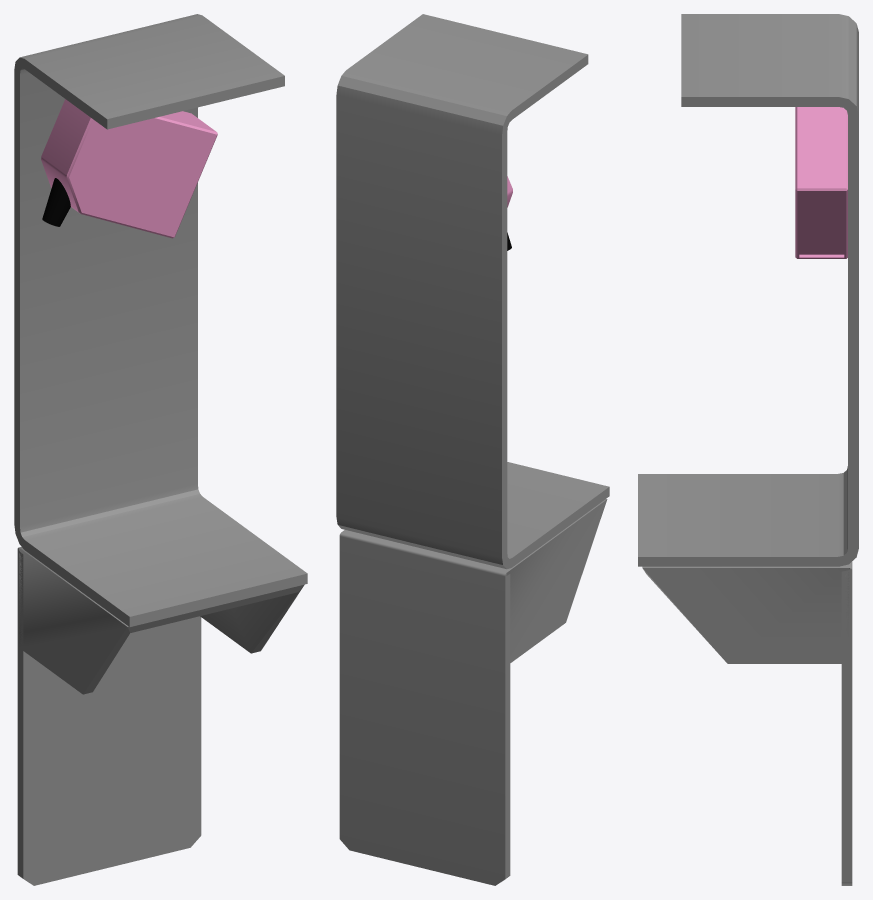
File: Laser2.FBX
3 views of the same model, side by side, from view 1: azimuth 30°, elevation 25°; view 2: azimuth 150°, elevation 25°; view 3: azimuth 270°, elevation 25° (orthographic). The views are drawn at different scales.
Parts seen in each view (by area): view 1: LaserA_2, LaserA; view 2: LaserA_2, LaserA; view 3: LaserA_2, LaserA.
Boxes of the visible parts, bbox=[...] form: LaserA_2: bbox=[14, 14, 307, 626]; LaserA: bbox=[17, 547, 304, 885]; LaserA_2: bbox=[336, 14, 609, 569]; LaserA: bbox=[339, 499, 607, 885]; LaserA_2: bbox=[638, 14, 858, 566]; LaserA: bbox=[642, 561, 852, 885].
Size of the model in its own units: 9.92 by 11.16 by 44.28.
